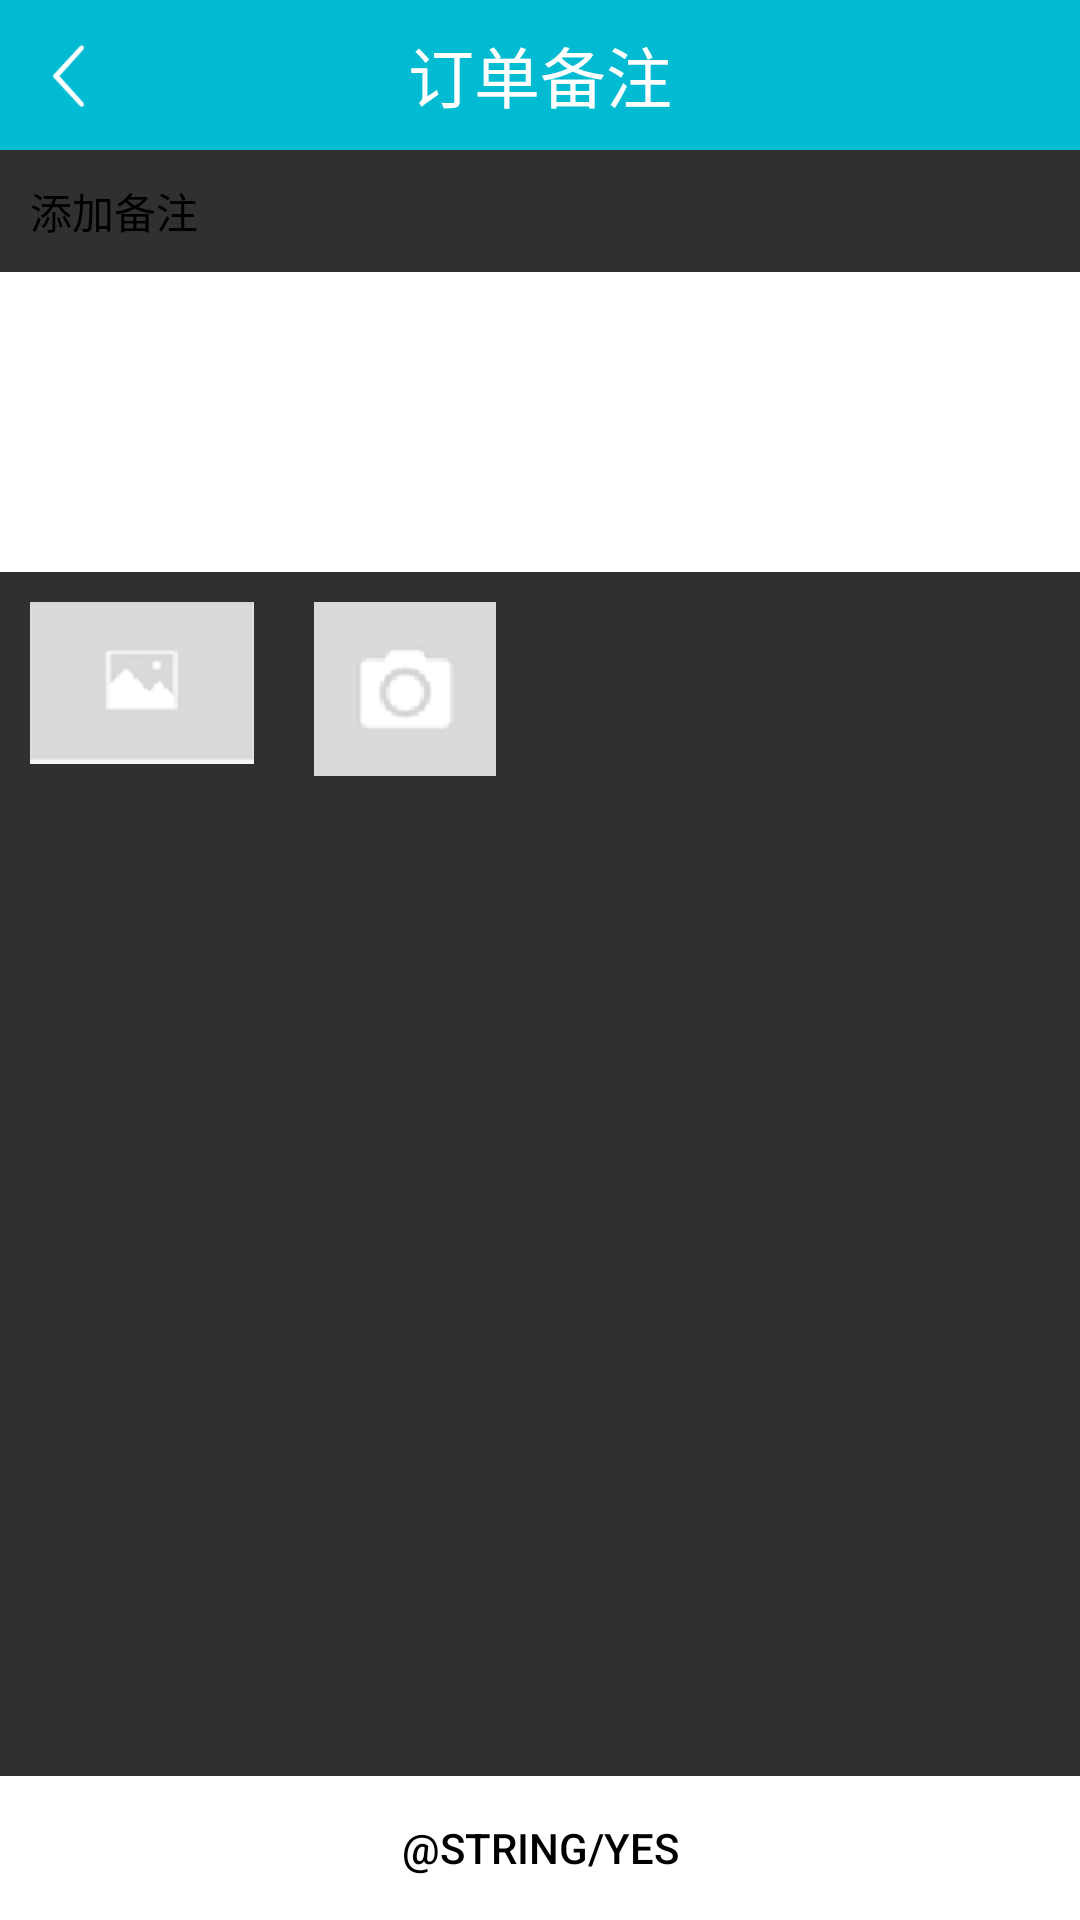

Icons on this 1080px×1920px Android screen, each with its box as rect(x1, y1, x2, y2):
back: rect(53, 45, 84, 107)
testcarema: rect(314, 602, 496, 776)
testimg: rect(30, 602, 254, 764)
